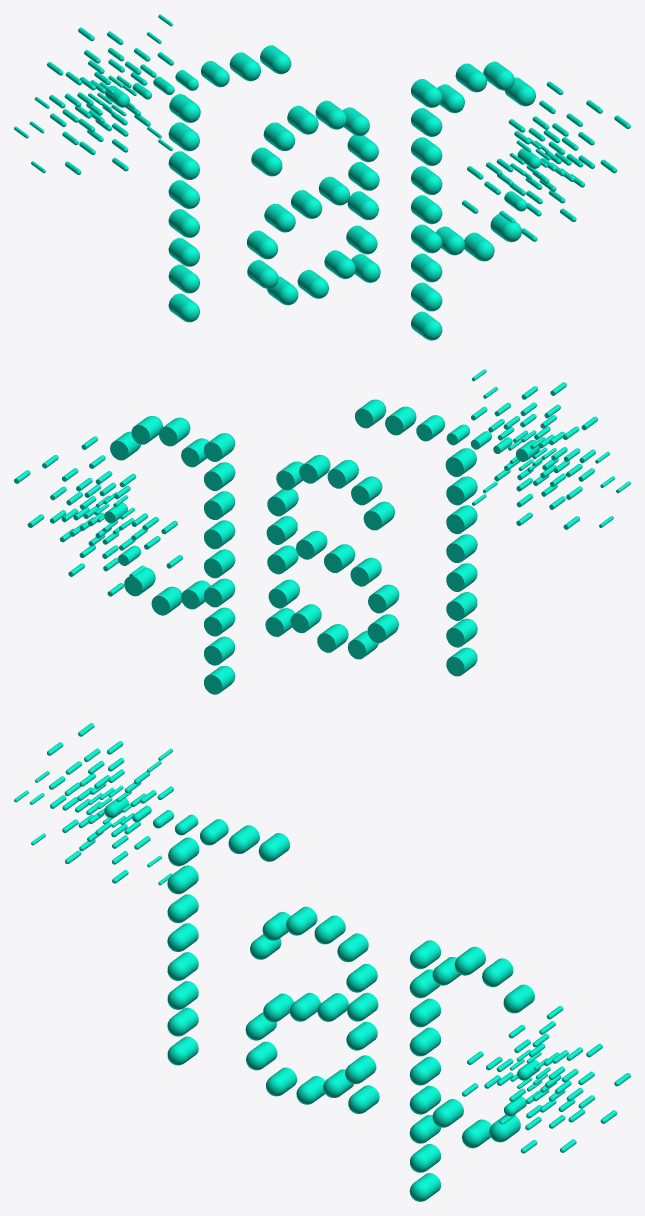
The model's file is tap.glb.
The picture shows the model from 3 angles, top to bottom: view 1: azimuth 30°, elevation 25°; view 2: azimuth 150°, elevation 25°; view 3: azimuth 330°, elevation 25°; orthographic projection.
Bounding box in the file's own units: 0.123 × 0.0751 × 0.00586.
